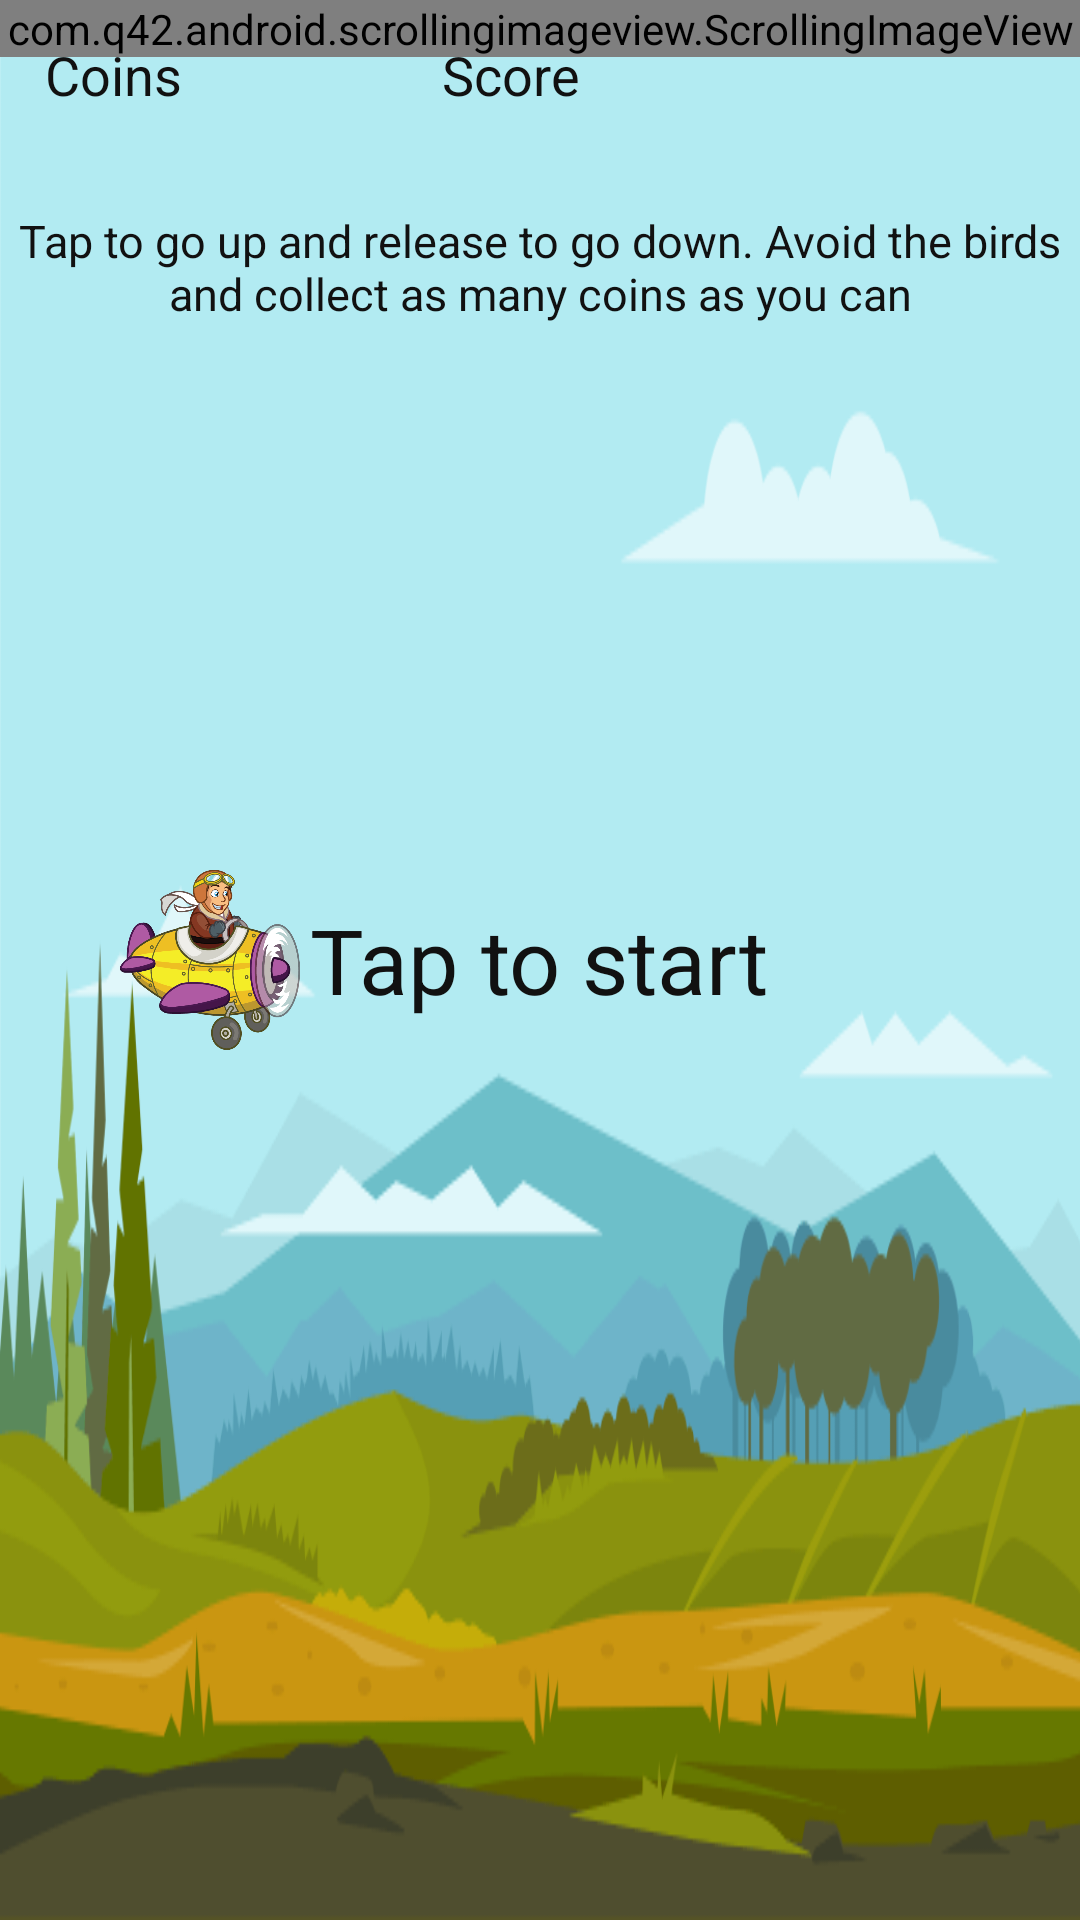

Screen size 1080 × 1920. Icon name, then its box in pixels as (x1, y1, x2, y2):
player animation: (120, 870, 300, 1050)
